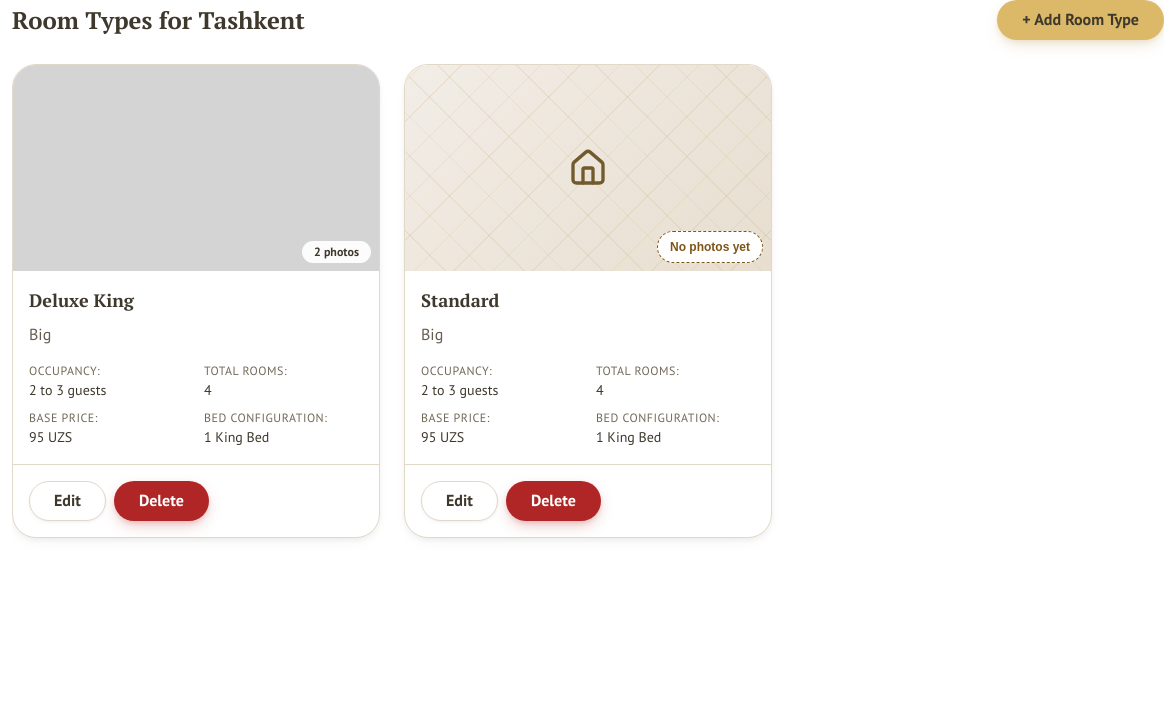
Test: PartnerRoomsManagement photos › the create form asks for photos and shows the hotel currency instead of a currency choice
This screenshot has width=1176, height=720.
Step 1. Click the button with aria-label "Add new room type" → (1081, 20), box [997,0,1164,40]
(page scrolled)
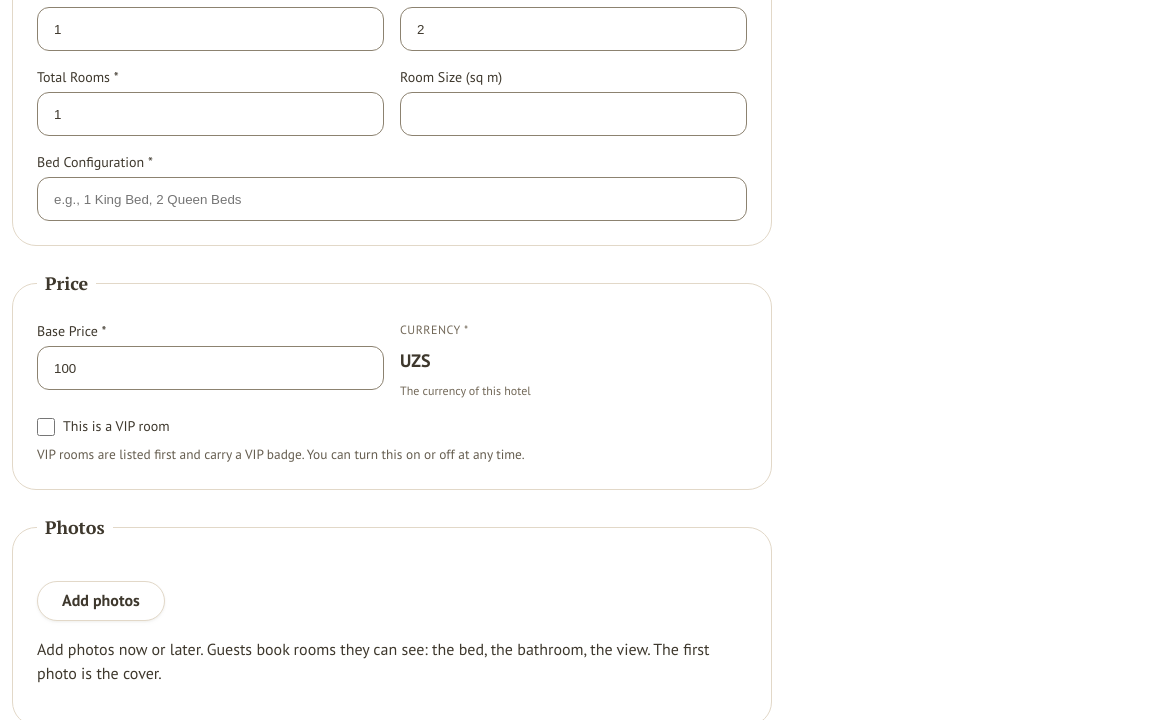
Expected: the text "UZS" is shown, [400,349,430,372]
Expected: the text "The currency of this hotel" is shown, [400,383,531,398]
